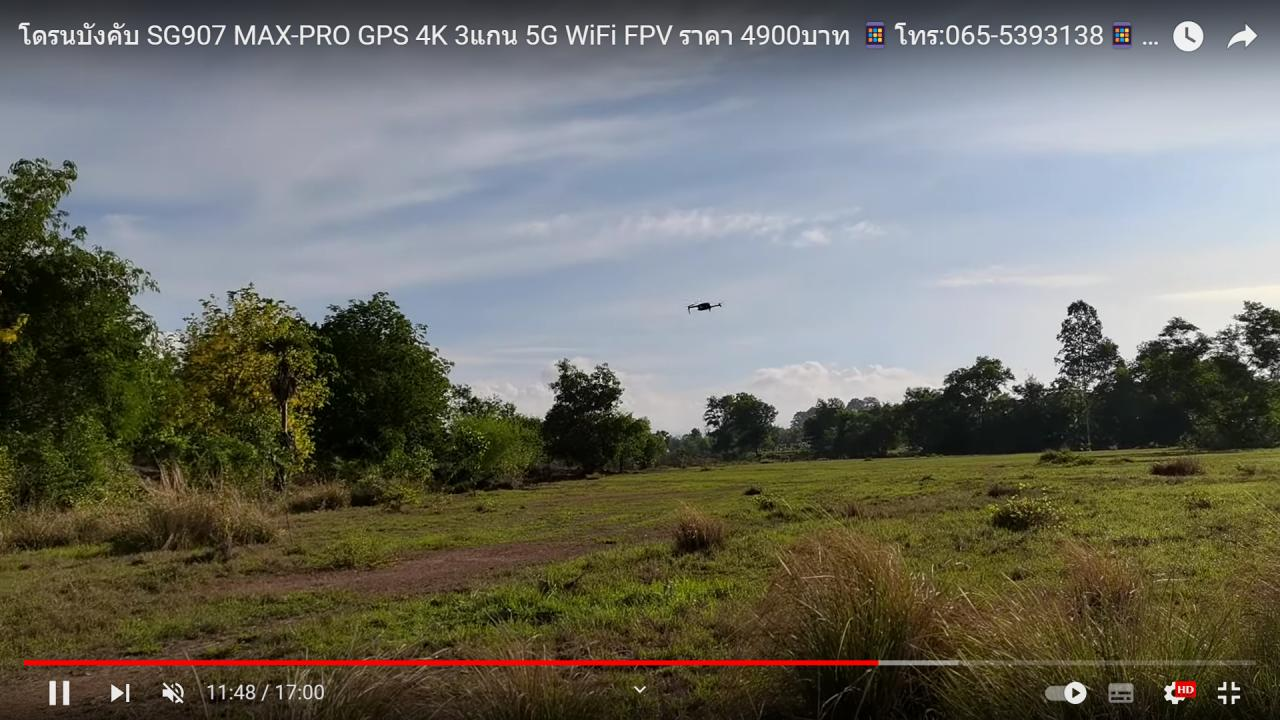Drone: (681, 295, 730, 319)
